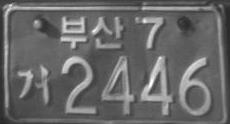2: (60, 54, 96, 114)
4: (140, 55, 174, 116), (101, 55, 135, 114)
6: (178, 57, 212, 116)
7: (135, 16, 164, 49)
거: (17, 64, 50, 105)
부산_O: (60, 15, 124, 49)
